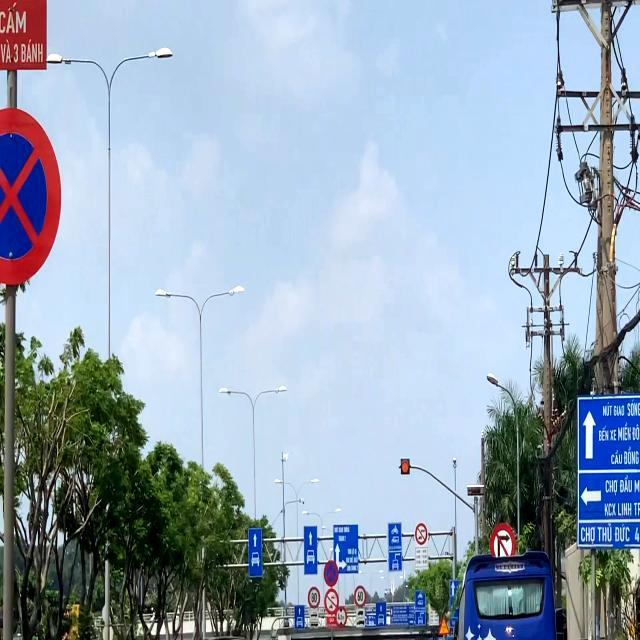Cam dung xe va do xe: (0, 100, 63, 290), (323, 560, 339, 588)
Cam re phai: (488, 522, 514, 562)
Toc do toi da cho phep: (306, 583, 323, 610), (354, 585, 367, 609)
